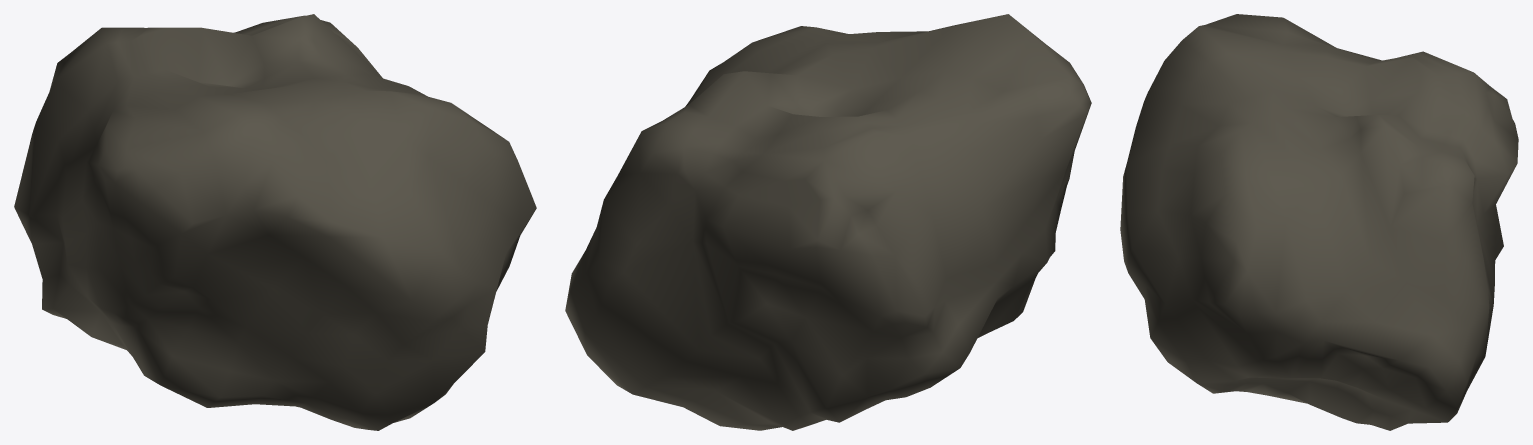
3 views of the same model, side by side, from view 1: azimuth 30°, elevation 25°; view 2: azimuth 150°, elevation 25°; view 3: azimuth 270°, elevation 25° (orthographic). The views are drawn at different scales.
Parts seen in each view (by area): view 1: AST_01_LOD0_Material #48_0; view 2: AST_01_LOD0_Material #48_0; view 3: AST_01_LOD0_Material #48_0.
Part boxes in pixels (x1,y1,x2,y2): AST_01_LOD0_Material #48_0: (14,14,536,430); AST_01_LOD0_Material #48_0: (565,14,1091,430); AST_01_LOD0_Material #48_0: (1120,14,1518,430).
Bounding box in the file's own units: 10.3 × 8.88 × 9.74.
Materials: 1 (1 with a texture image).
